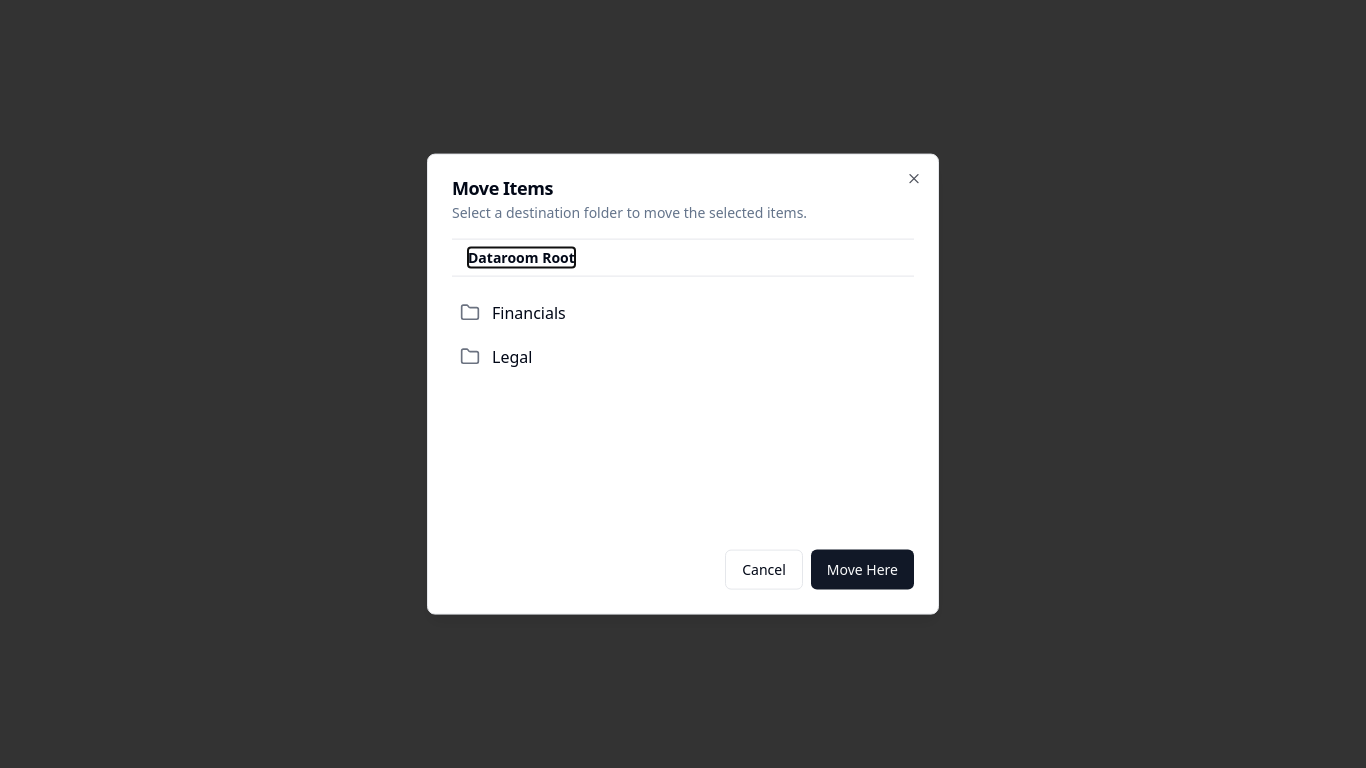
Test: DataroomMoveItemsDialog › navigates into a subfolder and updates breadcrumbs
Click the button "Financials" at (529,313), box x1=452 y1=293 x2=906 y2=333
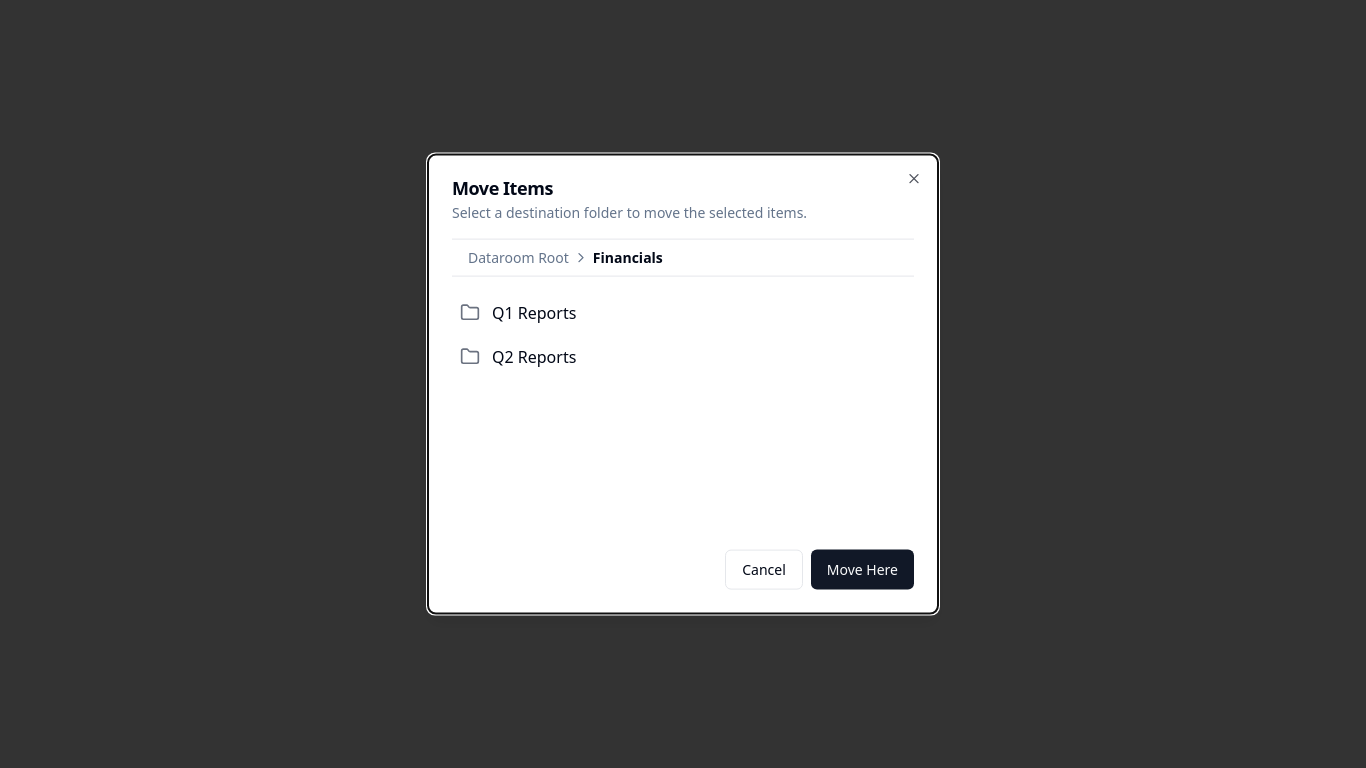
Expected: the button "Dataroom Root" is shown, x1=468 y1=248 x2=569 y2=268
Expected: the text "Q1 Reports" is shown, x1=492 y1=302 x2=576 y2=324
Expected: the text "Q2 Reports" is shown, x1=492 y1=346 x2=576 y2=368
